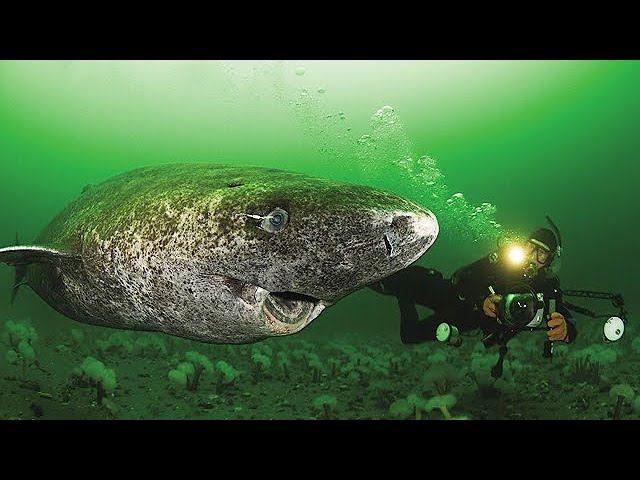shark: (1, 159, 443, 345)
